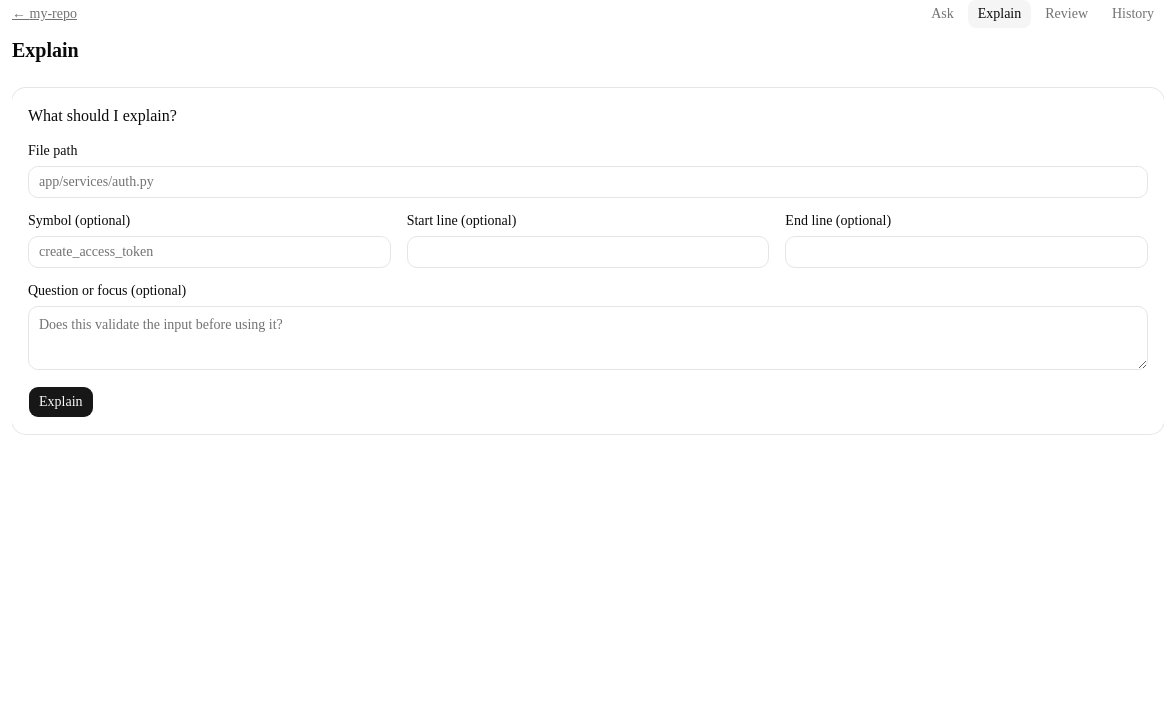
ExplainPage › shows a friendly error for a 404 backend response
The image size is (1164, 720).
Type "a.py" into the field labelled "File path" at [588, 182], box [28, 166, 1148, 198]
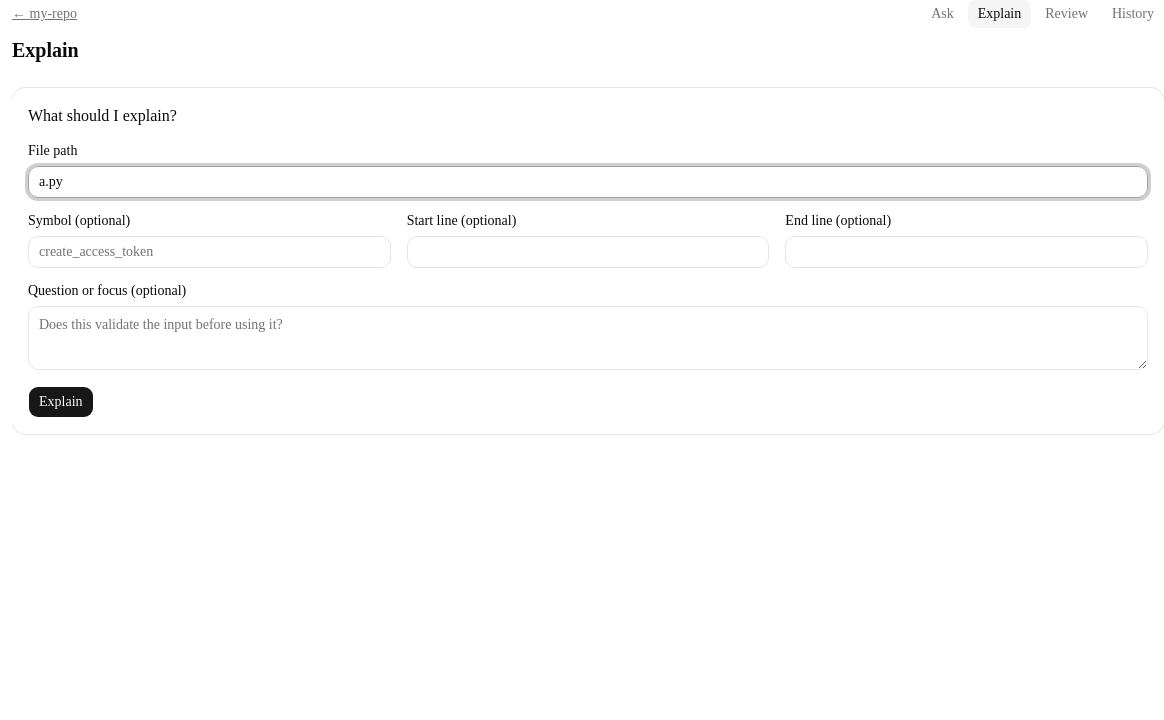
Click the button "Explain" at [61, 402], box [28, 386, 94, 418]
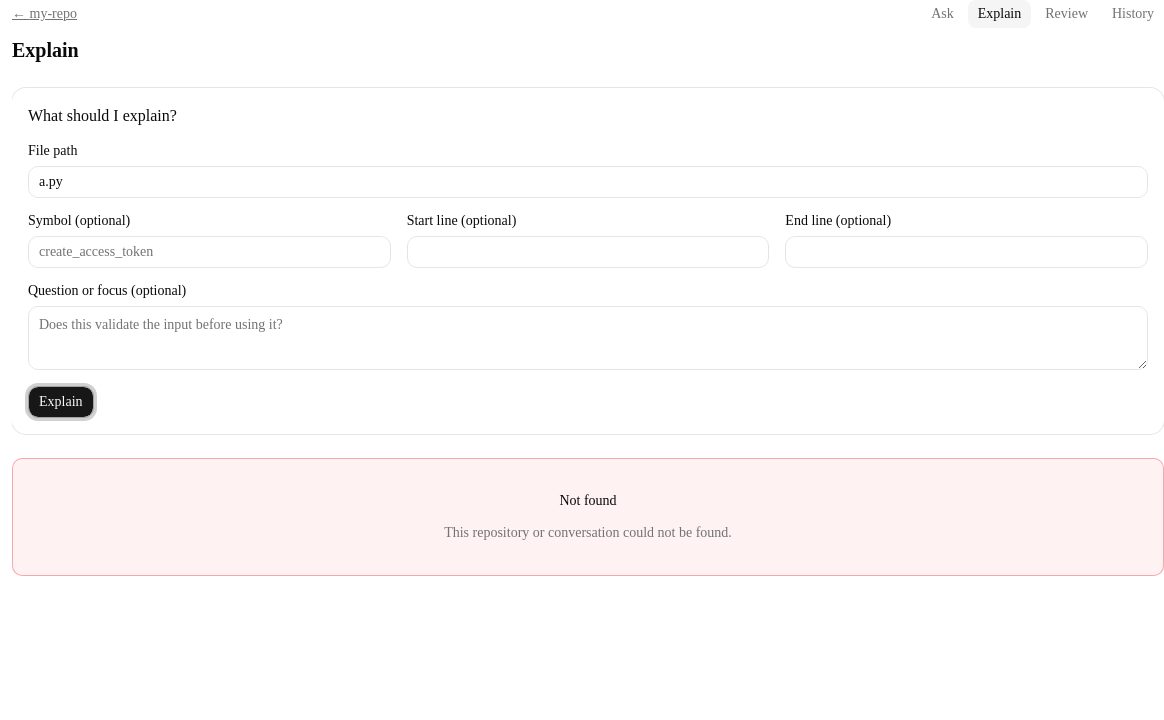
Expected: the text "This repository or conversation could not be found." is shown, [444, 523, 732, 543]
